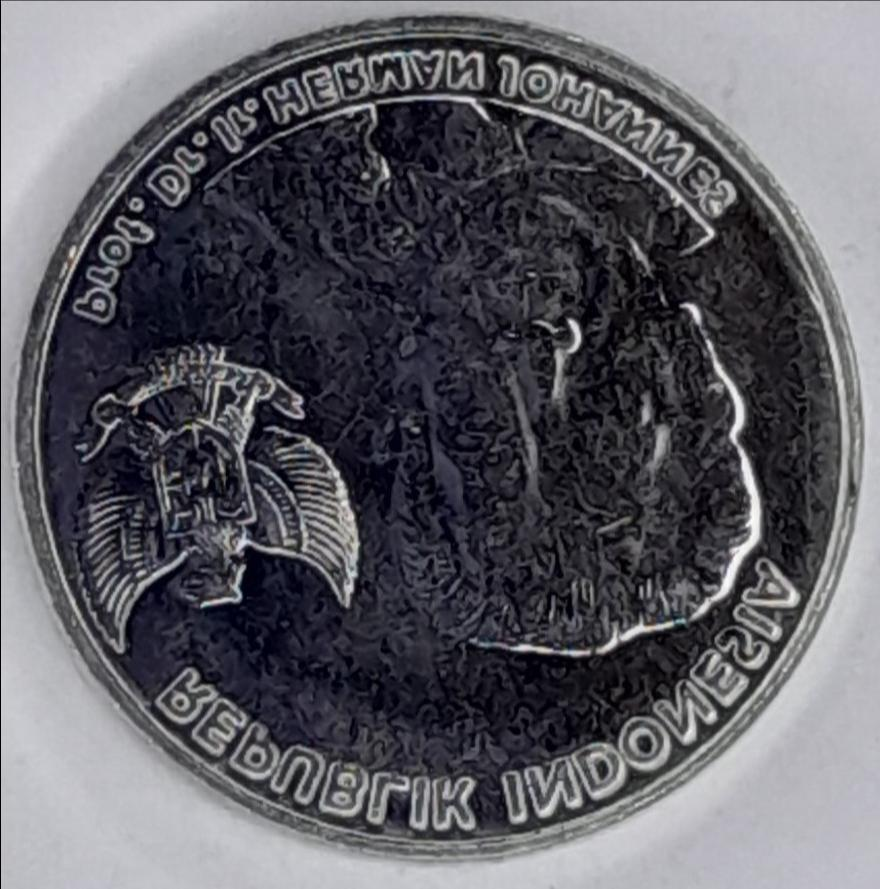coin_100_e2016: (9, 8, 868, 861)
